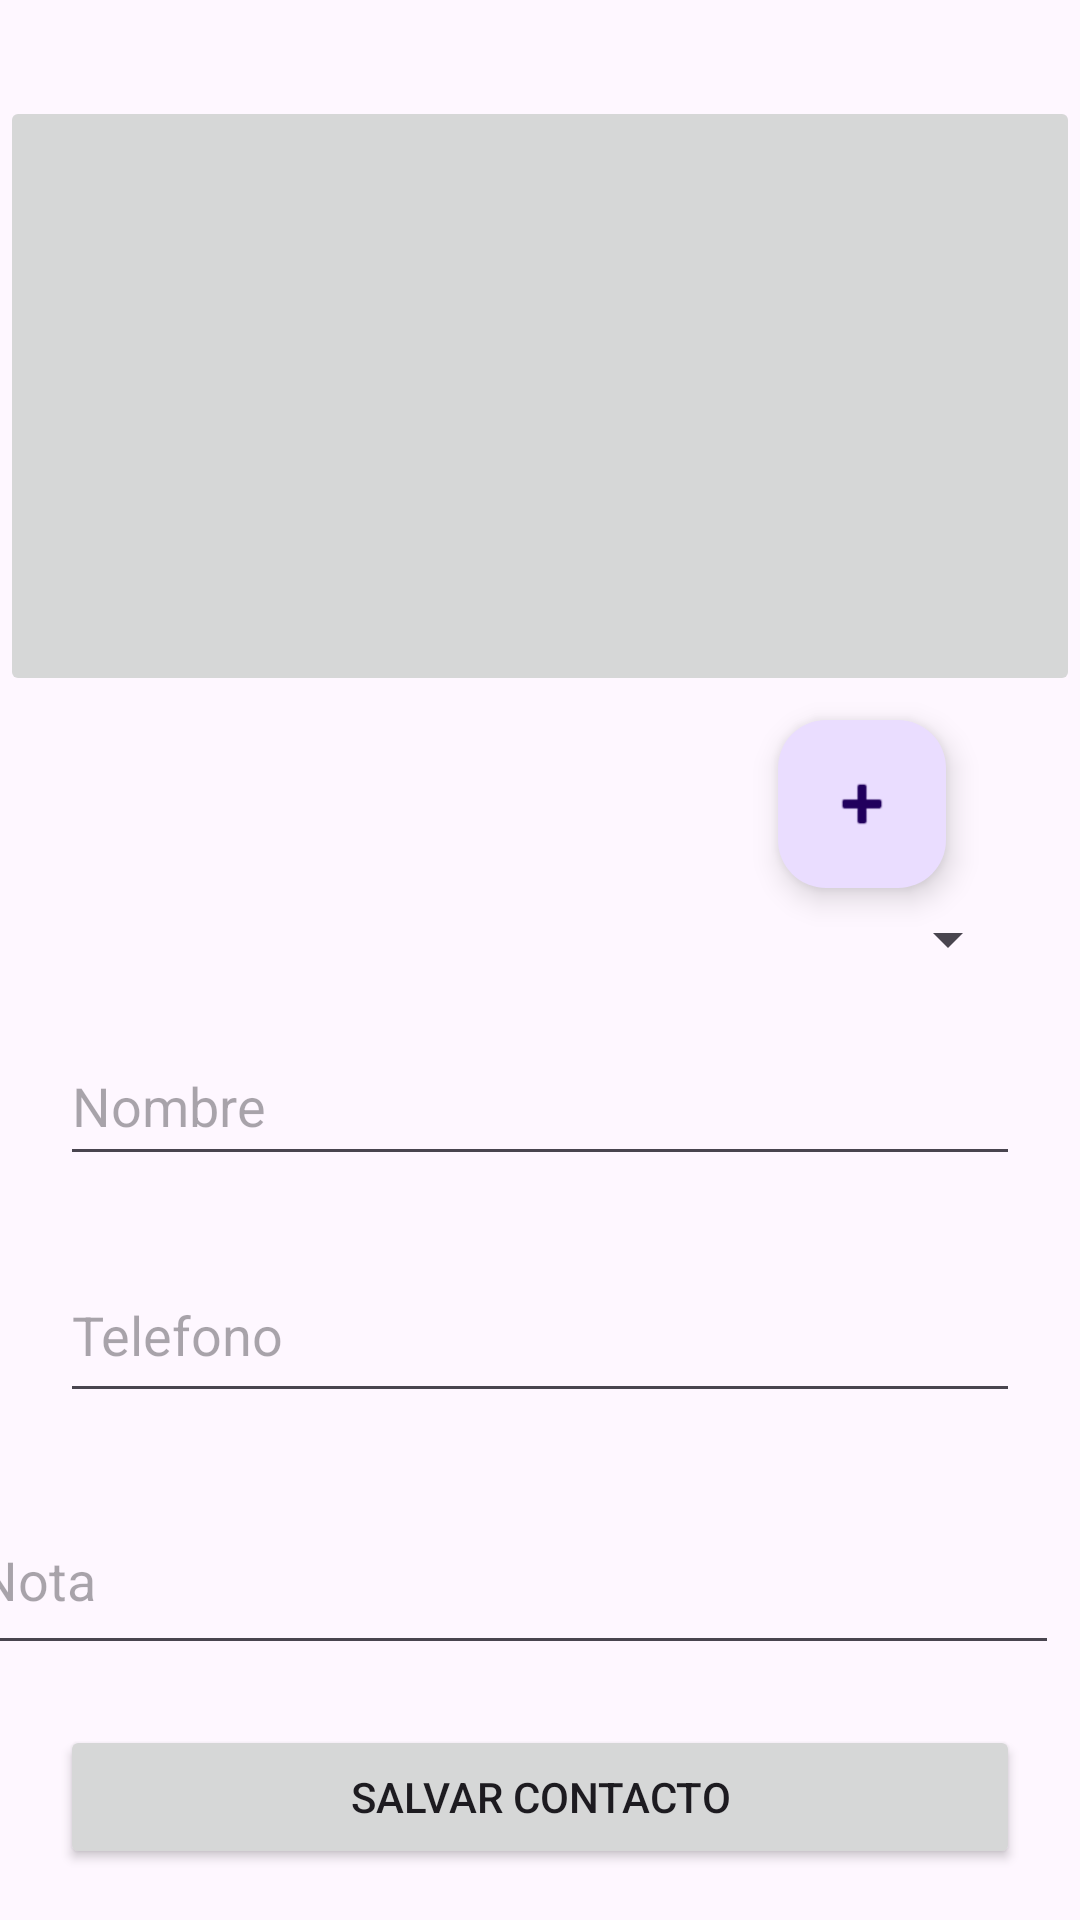

Screen size 1080 x 1920. Icon name, then its center in pixels as (x,y):
add: (862,804)
